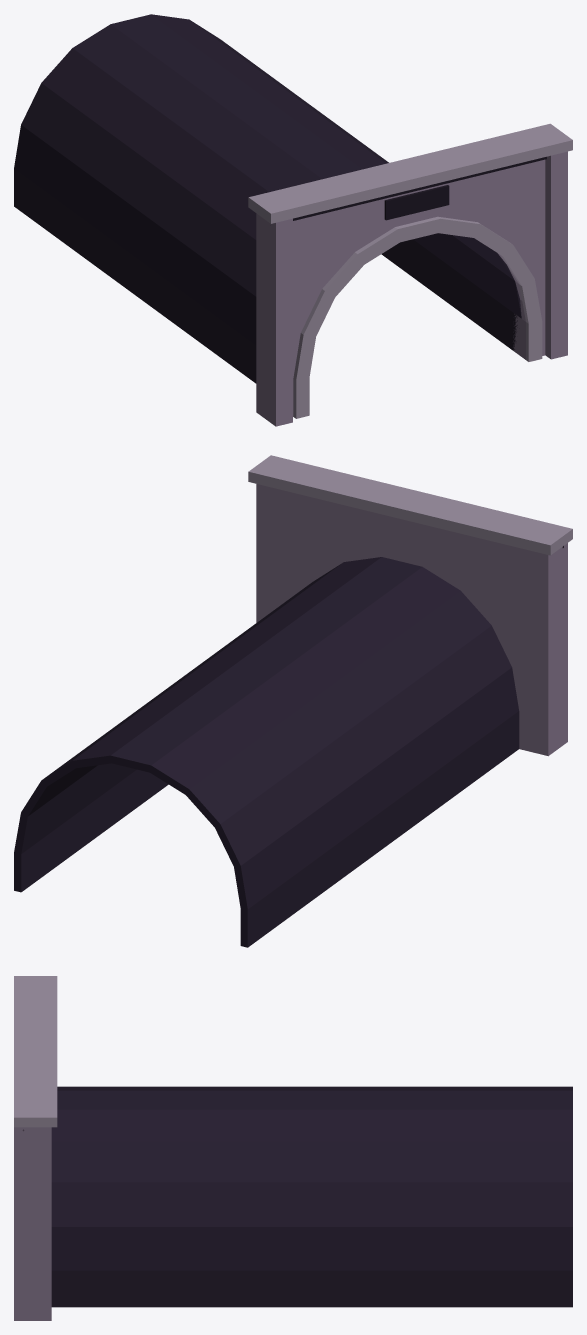
File: tunnel_portal.glb
3 renders of one model, top to bottom at view 1: azimuth 30°, elevation 25°; view 2: azimuth 150°, elevation 25°; view 3: azimuth 270°, elevation 25°, orthographic. The views are drawn at different scales.
Parts seen in each view (by area): view 1: tunnel_inner, tunnel_portal; view 2: tunnel_inner, tunnel_portal; view 3: tunnel_inner, tunnel_portal.
Boxes of the visible parts, x1,y1,x2,y2 form: tunnel_inner: (14, 14, 521, 383); tunnel_portal: (248, 123, 572, 426); tunnel_inner: (14, 557, 519, 947); tunnel_portal: (248, 455, 572, 756); tunnel_inner: (51, 1086, 572, 1307); tunnel_portal: (14, 976, 57, 1320).
Size of the model in its own units: 12.4 by 8.4 by 20.7.
